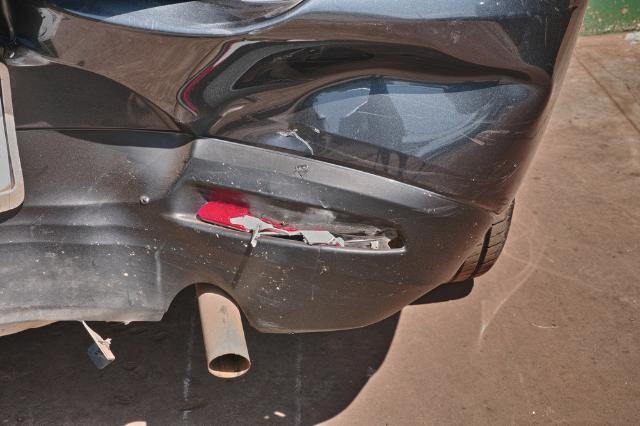dent: (187, 40, 552, 146), (70, 175, 184, 320)
no part: (177, 184, 407, 254)
